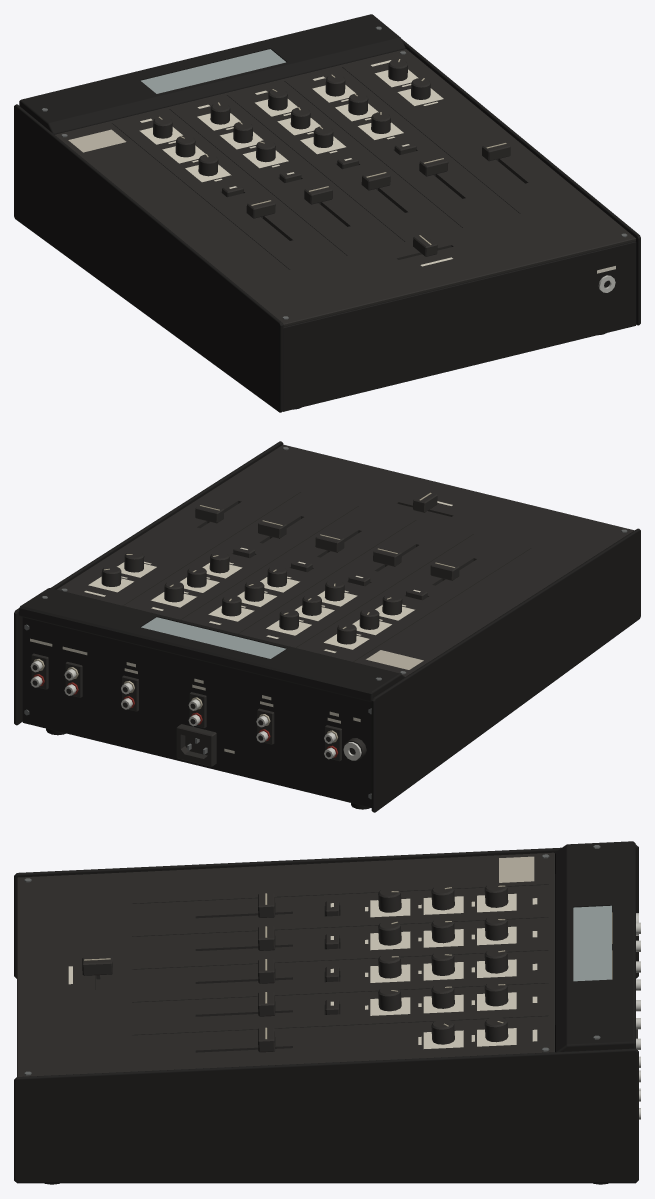
The model's file is dj-mixer-4ch-8c49073d879b.glb.
3 views of the same model, one above another, from view 1: azimuth 30°, elevation 25°; view 2: azimuth 150°, elevation 25°; view 3: azimuth 270°, elevation 25° (orthographic). The views are drawn at different scales.
Parts seen in each view (by area): view 1: plastic-dark, enamel-black, decal-ink, glass-clear, decal-print; view 2: enamel-black, plastic-dark, decal-ink, glass-clear, chrome, decal-print, plastic-light; view 3: plastic-dark, enamel-black, decal-ink, glass-clear, decal-print, chrome.
Boxes of the visible parts, x1,y1,x2,y2 form: plastic-dark: [55, 49, 635, 326]; enamel-black: [14, 14, 640, 412]; decal-ink: [139, 60, 615, 273]; glass-clear: [141, 49, 285, 93]; decal-print: [68, 129, 126, 152]; enamel-black: [14, 441, 640, 812]; plastic-dark: [31, 444, 634, 766]; decal-ink: [30, 501, 452, 753]; glass-clear: [141, 617, 286, 658]; chrome: [30, 660, 361, 760]; decal-print: [366, 650, 423, 669]; plastic-light: [33, 492, 455, 742]; plastic-dark: [17, 852, 637, 1076]; enamel-black: [14, 841, 638, 1183]; decal-ink: [68, 893, 537, 1048]; glass-clear: [573, 905, 611, 981]; decal-print: [499, 856, 534, 882]; chrome: [636, 913, 640, 1119].
Size of the model in its own units: 0.32 by 0.1112 by 0.4114.
